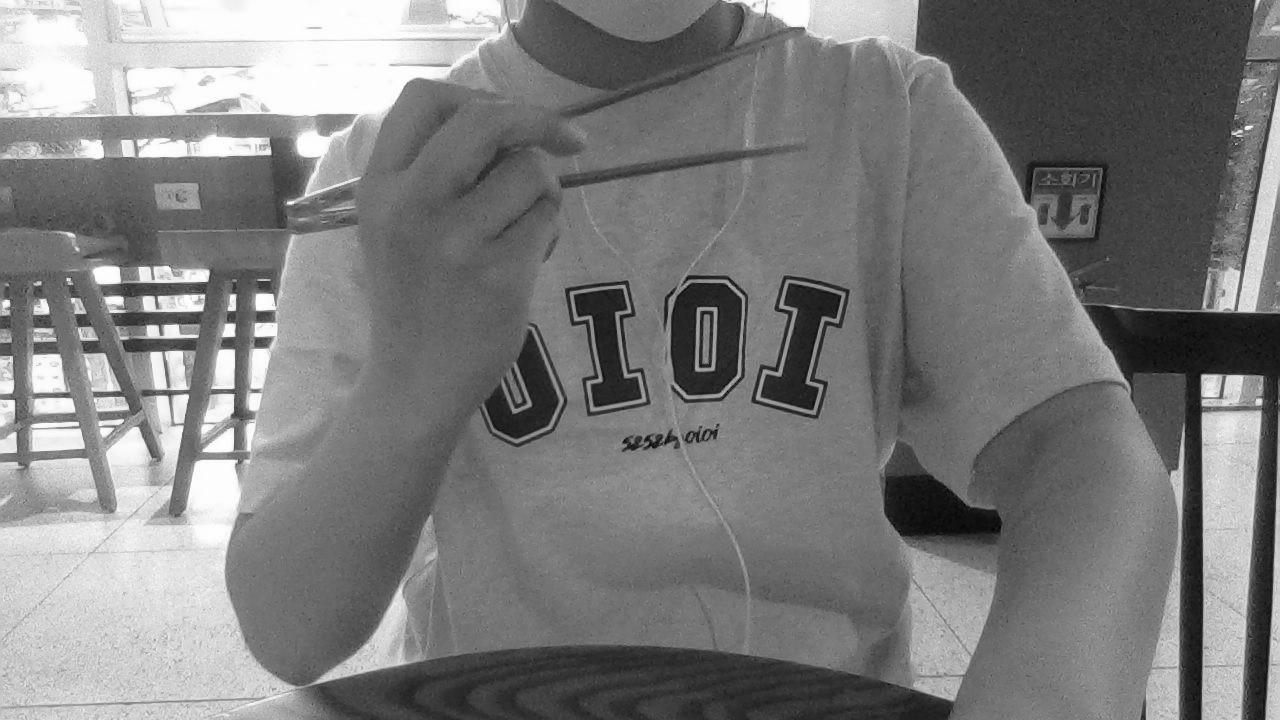chopstick: (281, 24, 808, 218), (288, 136, 815, 237)
hand: (356, 79, 588, 401)
